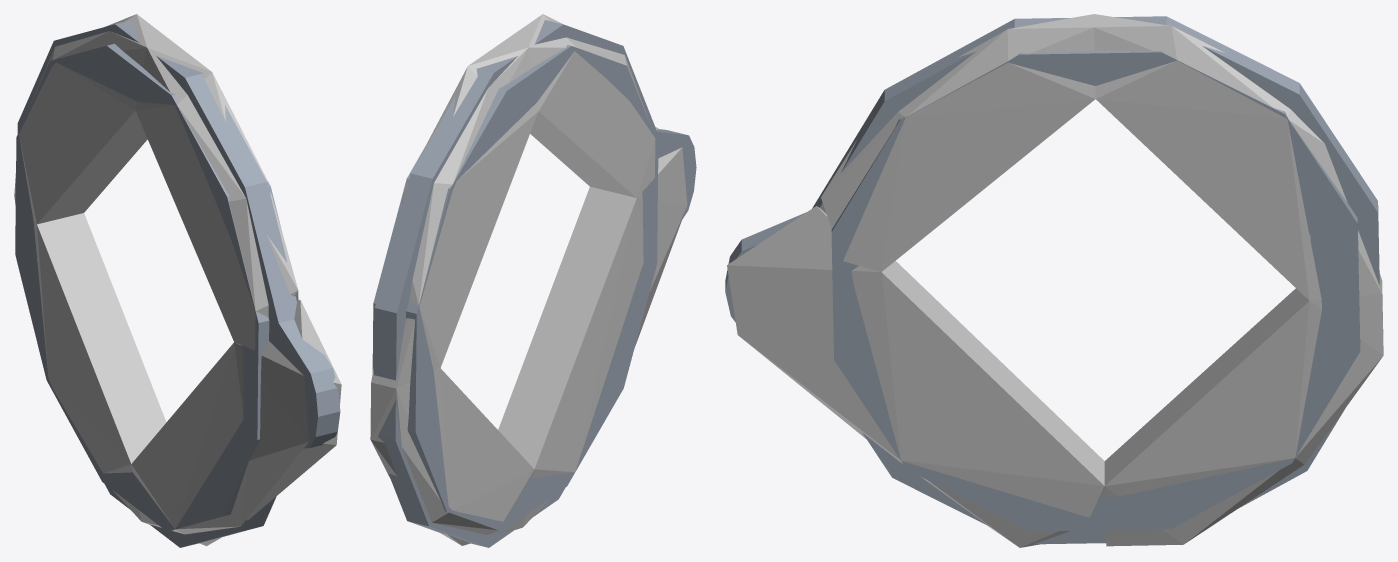
Rendered from SM_Prop_Telescope_01_Lens_03.fbx.
The picture shows the model from 3 angles, left to right: view 1: azimuth 30°, elevation 25°; view 2: azimuth 150°, elevation 25°; view 3: azimuth 270°, elevation 25°; orthographic projection. The views are drawn at different scales.
Parts seen in each view (by area): view 1: SM_Prop_Telescope_01_Lens_03_ConvexHulls, SM_Prop_Telescope_01_Lens_03; view 2: SM_Prop_Telescope_01_Lens_03_ConvexHulls, SM_Prop_Telescope_01_Lens_03; view 3: SM_Prop_Telescope_01_Lens_03_ConvexHulls, SM_Prop_Telescope_01_Lens_03.
Part boxes in pixels (x1,y1,x2,y2): SM_Prop_Telescope_01_Lens_03_ConvexHulls: (14, 14, 341, 546); SM_Prop_Telescope_01_Lens_03: (15, 20, 340, 547); SM_Prop_Telescope_01_Lens_03_ConvexHulls: (370, 14, 687, 545); SM_Prop_Telescope_01_Lens_03: (372, 20, 696, 547); SM_Prop_Telescope_01_Lens_03_ConvexHulls: (727, 14, 1383, 547); SM_Prop_Telescope_01_Lens_03: (725, 16, 1379, 544).
Size of the model in its own units: 17.15 by 191 by 167.
2 materials, 1 textured.
